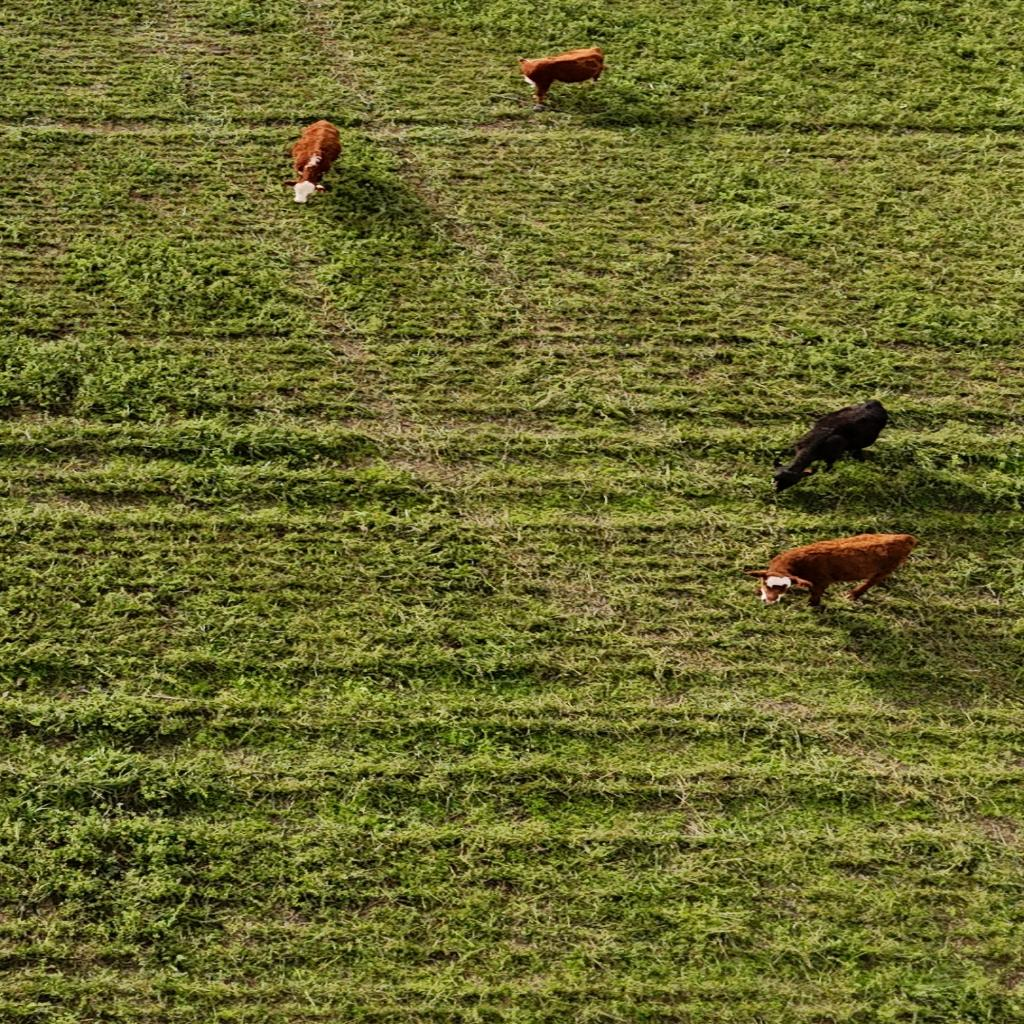cow: (740, 528, 928, 611), (770, 399, 898, 495), (516, 45, 611, 111), (276, 119, 344, 208)
